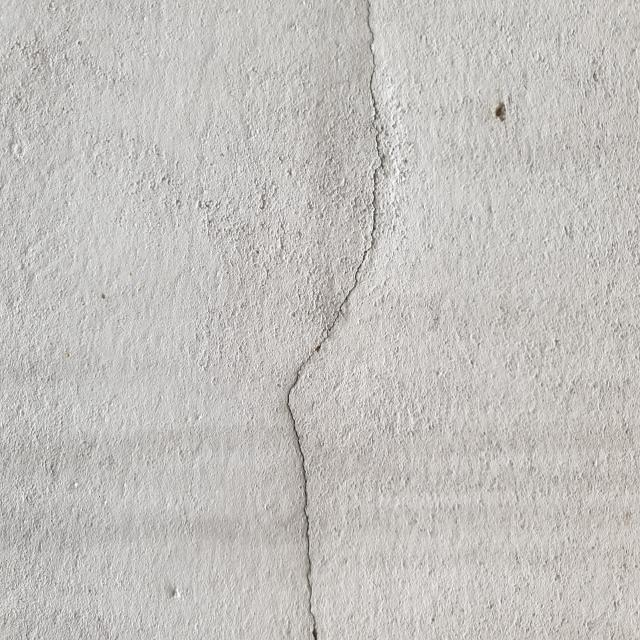SurfaceCrack: (243, 0, 421, 640)
